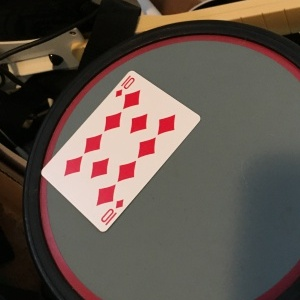card: (41, 66, 200, 234)
